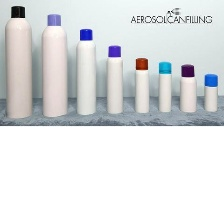bottle: (2, 3, 35, 120), (39, 11, 70, 118), (73, 26, 98, 116), (103, 42, 126, 117), (131, 54, 152, 114), (177, 62, 198, 114), (155, 59, 174, 114), (201, 71, 220, 113)
